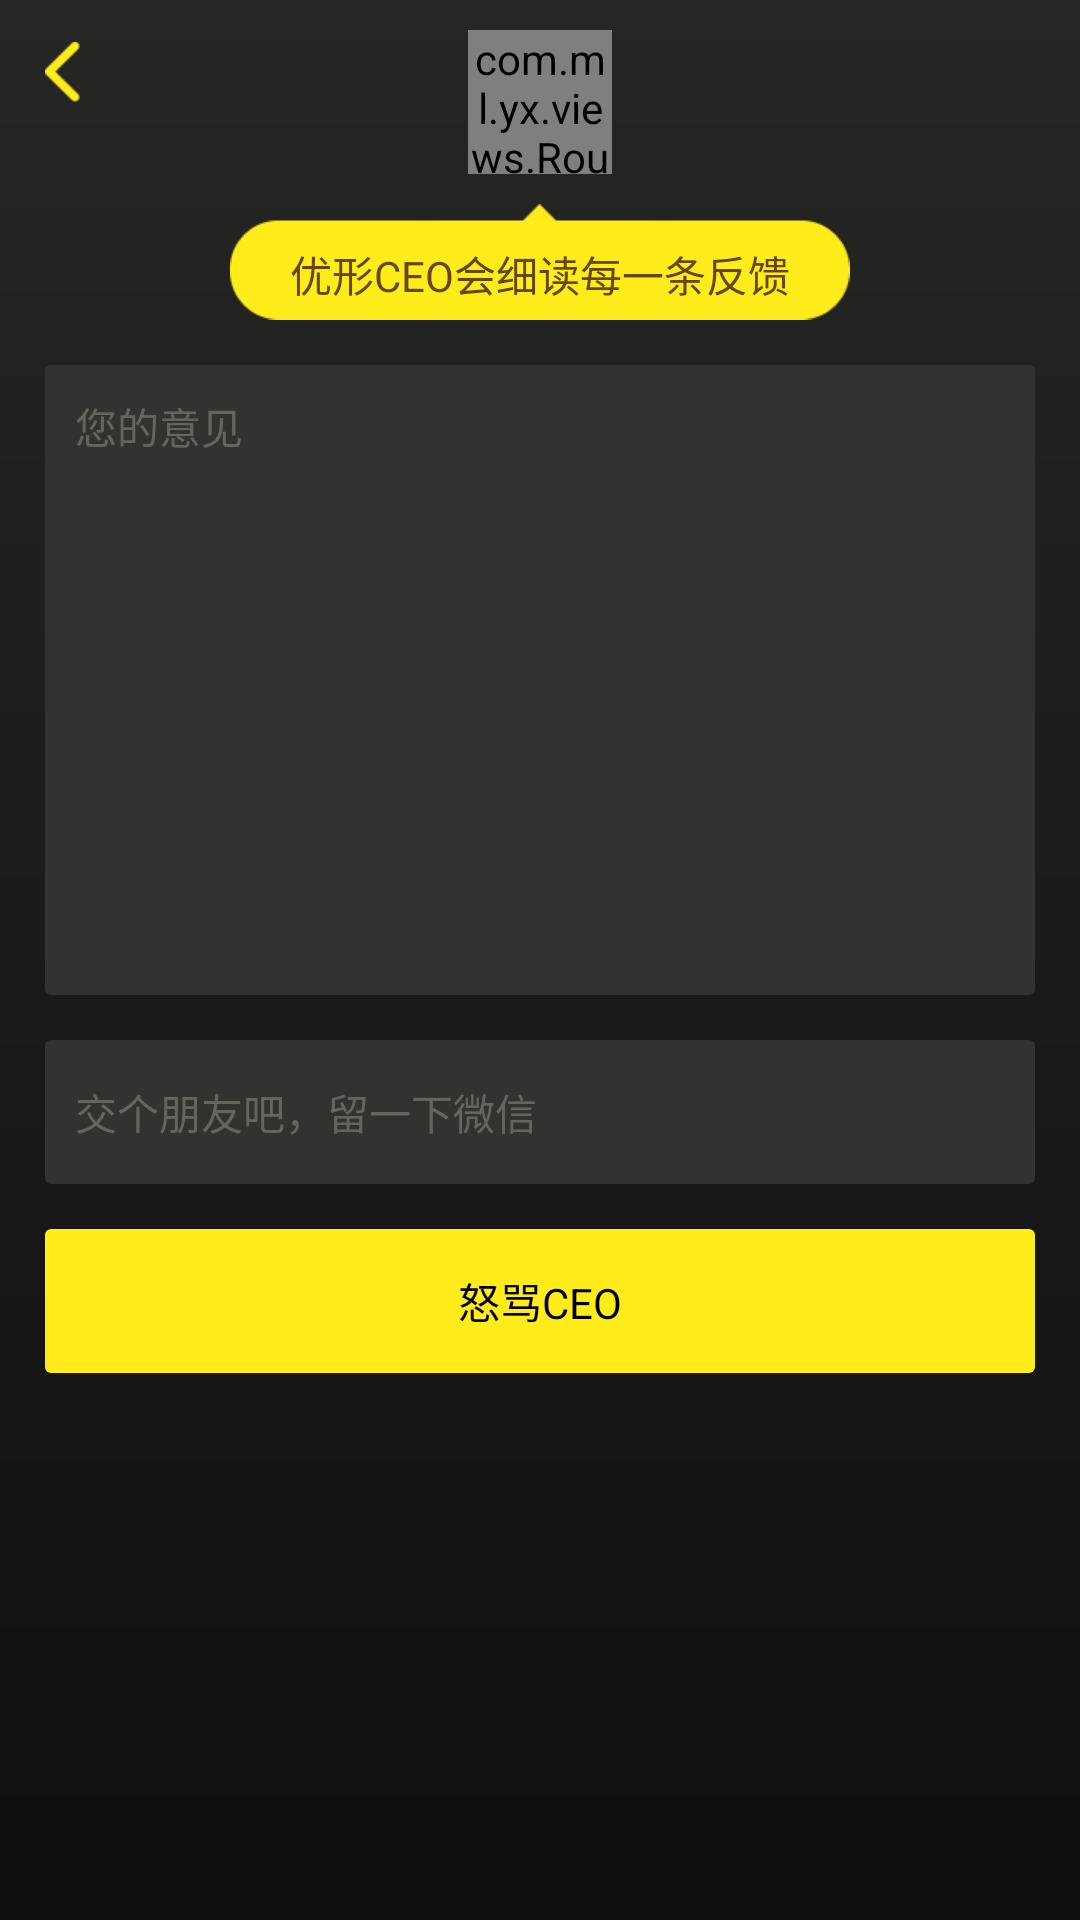

Icon bounding boxes for this 1080 × 1920 phone screenshot, format (x1, y1, x2, y2):
back: (45, 42, 80, 102)
